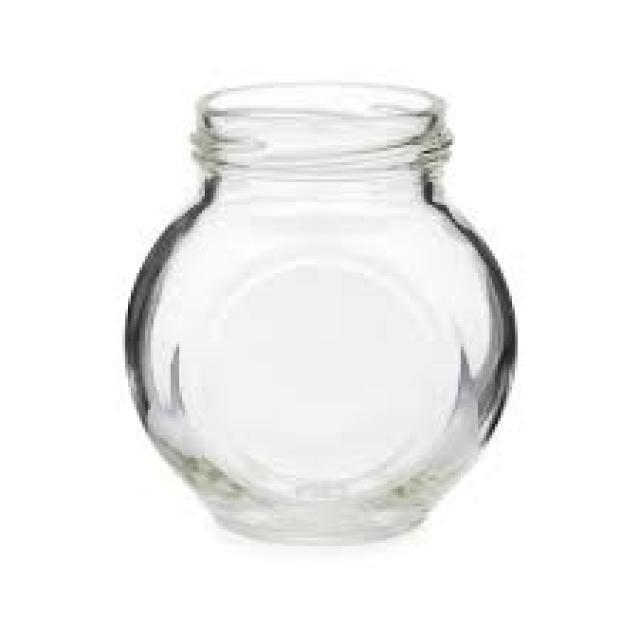glass: (119, 83, 512, 544)
